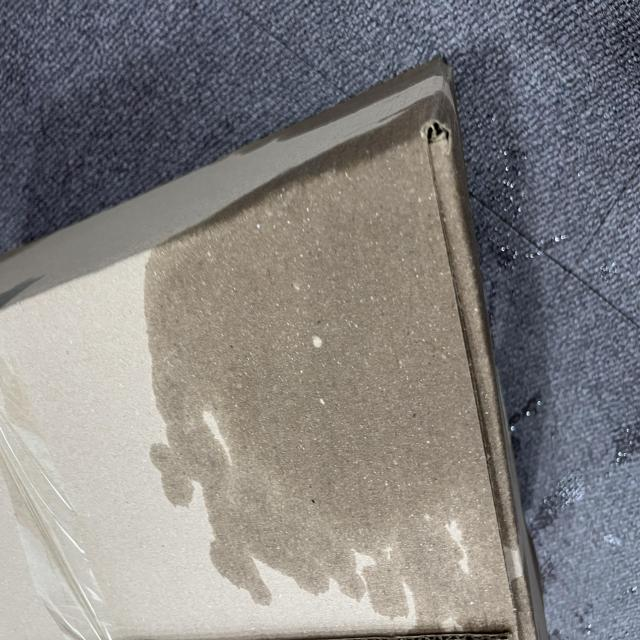wet: (15, 182, 437, 640)
